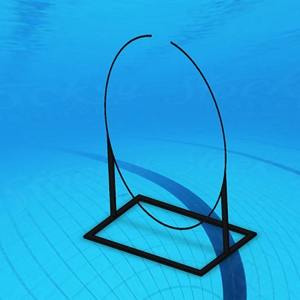circle: (81, 32, 258, 279)
